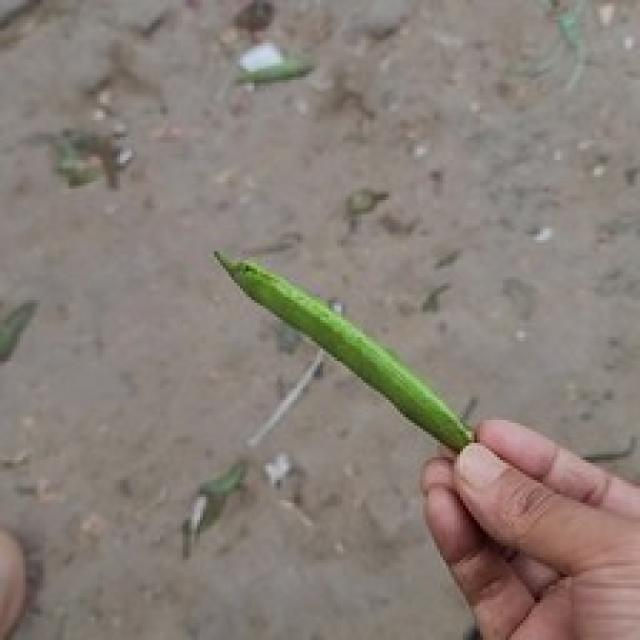Bean: (212, 246, 474, 451)
